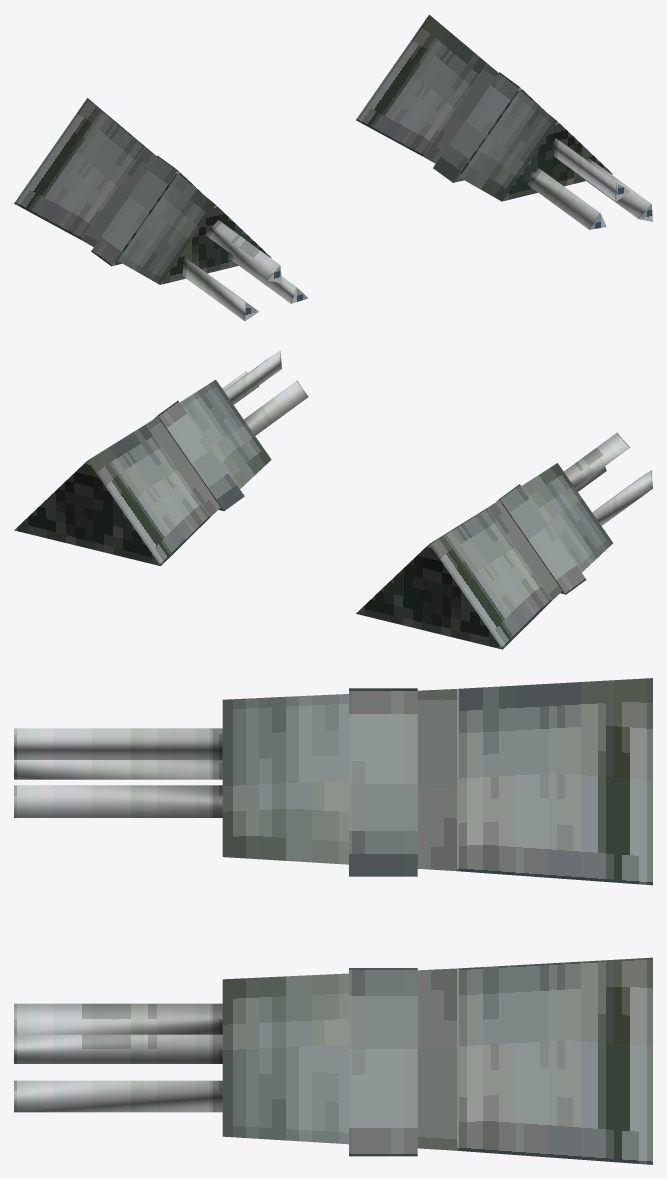
Rendered from ywing_weapon1_s04_l2.fbx.
3 views of the same model, one above another, from view 1: azimuth 30°, elevation 25°; view 2: azimuth 150°, elevation 25°; view 3: azimuth 270°, elevation 25° (orthographic). The views are drawn at different scales.
Visible parts, largest first — view 1: mesh_node; view 2: mesh_node; view 3: mesh_node.
Part boxes in pixels (x1,y1,x2,y2): mesh_node: [14, 14, 652, 321]; mesh_node: [14, 350, 652, 649]; mesh_node: [14, 678, 652, 1164].
Bounding box in the file's own units: 1.6 × 0.2755 × 1.08.
Materials: 1 (1 with a texture image).
